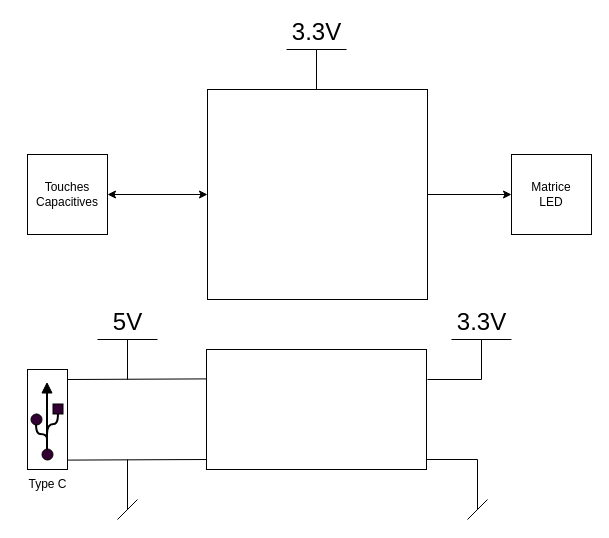
The diagram is 609 pixels wide and 538 high, and some of its shapes have lost their labels. Here are the shapes that lost their labels. From the top down, the centre of each, then its label:
point 317,194: MCU STM32 192KB 48UFQFPN
point 316,409: Alimentation
